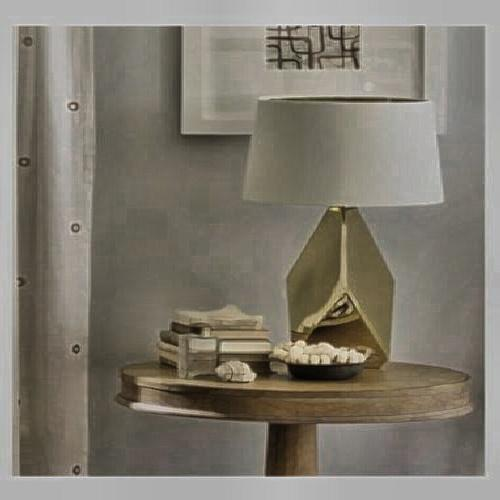lamp: (247, 89, 447, 366)
